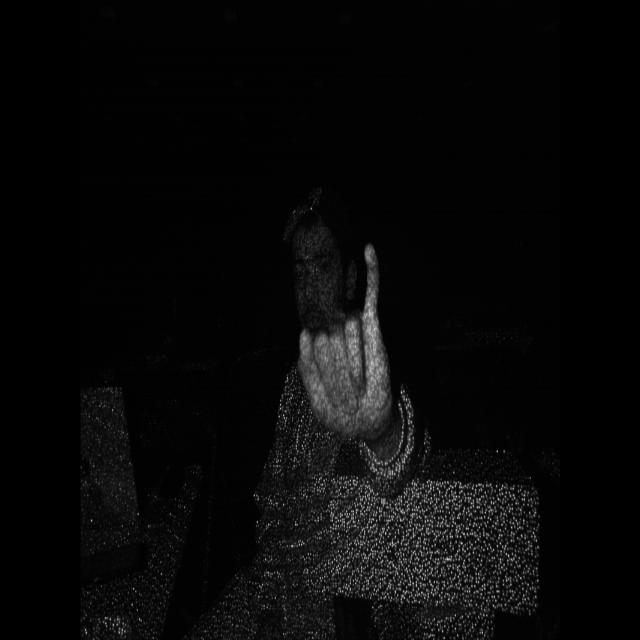I: (287, 231, 403, 450)
